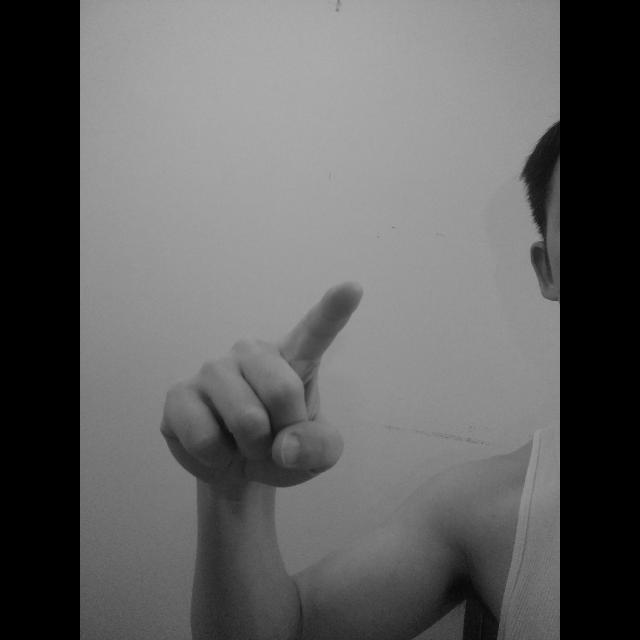Z: (155, 277, 367, 491)
